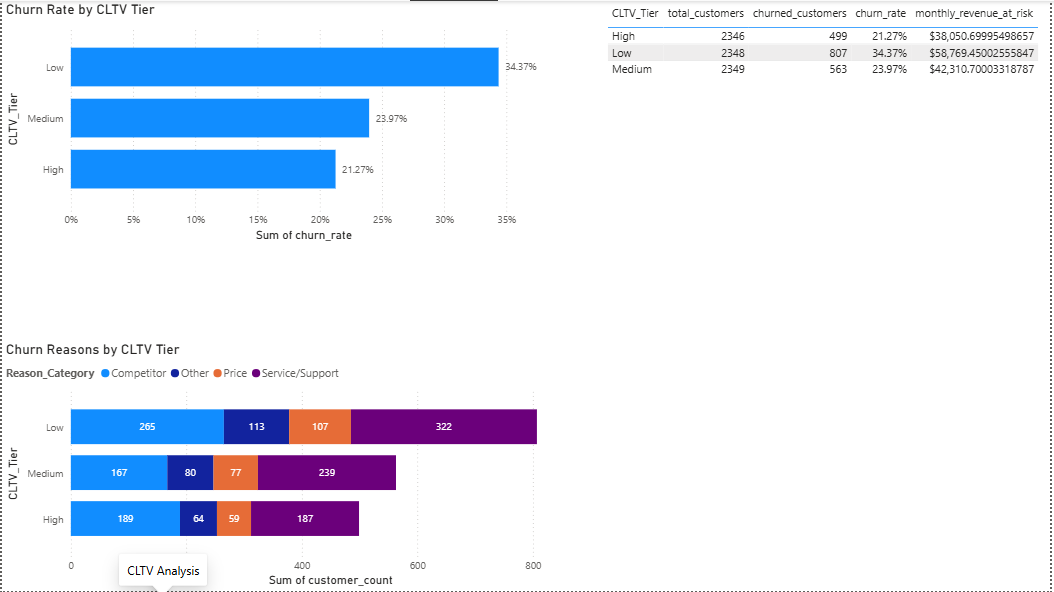

This screenshot's page, from the dashboard's own definition file:
{"tool":"powerbi","page":{"name":"CLTV Analysis","canvas":[1280,720],"ordinal":1},"visuals":[{"type":"clusteredBarChart","title":"Churn Rate by CLTV Tier","fields":{"Category":["vw_revenue_risk_by_cltv.CLTV_Tier"],"Y":["Sum(vw_revenue_risk_by_cltv.churn_rate)"]},"box":[0,0,670,298.3],"z":0},{"type":"tableEx","fields":{"Values":["vw_revenue_risk_by_cltv.CLTV_Tier","vw_revenue_risk_by_cltv.total_customers","vw_revenue_risk_by_cltv.churned_customers","vw_revenue_risk_by_cltv.churn_rate","vw_revenue_risk_by_cltv.monthly_revenue_at_risk"]},"box":[733.3,0,546.7,205],"z":1},{"type":"barChart","title":"Churn Reasons by CLTV Tier","fields":{"Category":["vw_reason_by_cltv_tier.CLTV_Tier"],"Y":["Sum(vw_reason_by_cltv_tier.customer_count)"],"Series":["vw_reason_by_cltv_tier.Reason_Category"]},"box":[0,415,733.3,305],"z":2}]}

Visuals, with their boxes in screenshot pixels (x1, y1, x2, y2), scaled from the page's 1280x720 canvas onto the 1054x592 screenshot:
"Churn Rate by CLTV Tier" clusteredBarChart: bbox(0, 0, 552, 245)
tableEx - vw_revenue_risk_by_cltv.CLTV_Tier x vw_revenue_risk_by_cltv.total_customers: bbox(604, 0, 1053, 169)
"Churn Reasons by CLTV Tier" barChart: bbox(0, 341, 604, 591)
